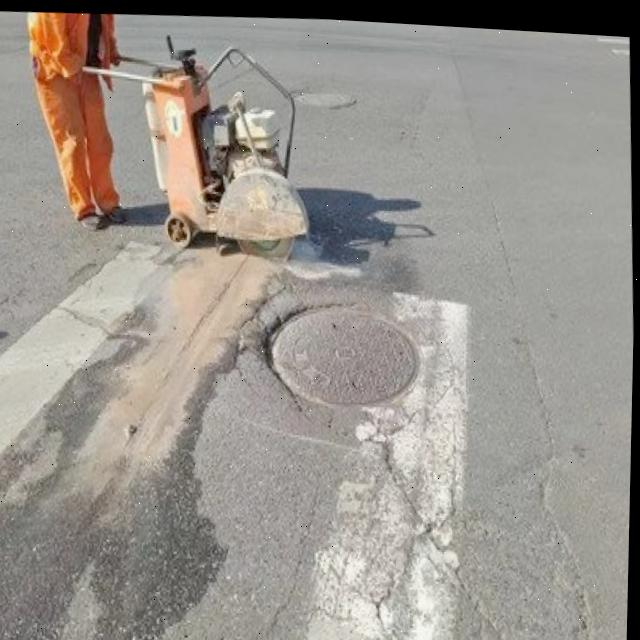manhole: (235, 269, 443, 422)
